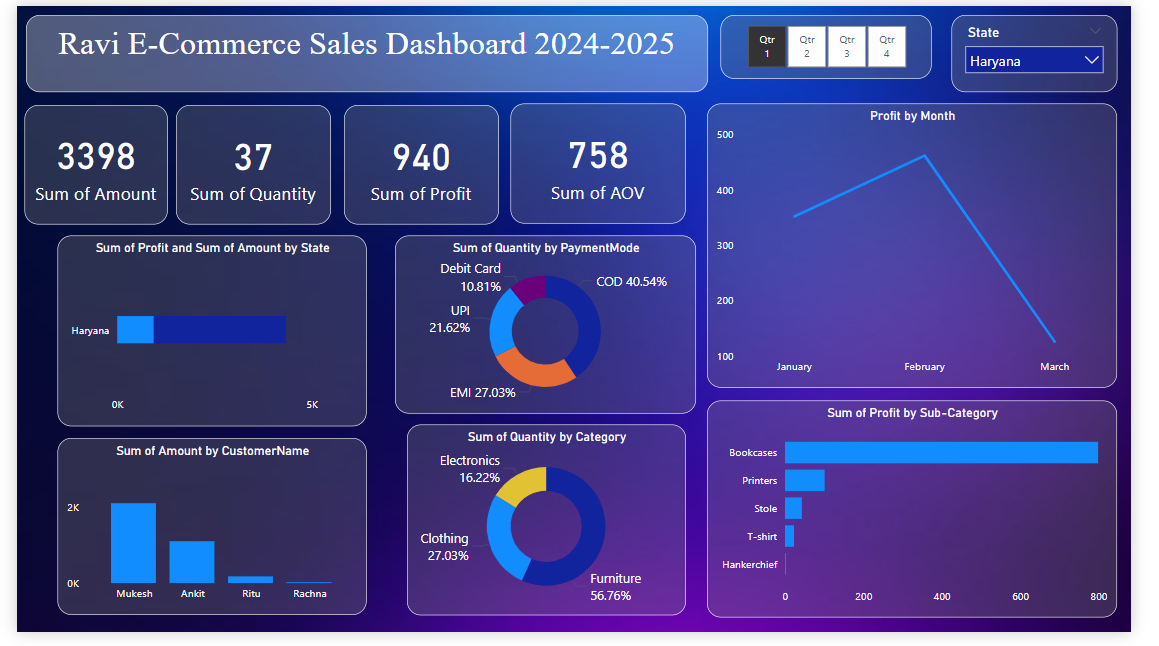

The dashboard page shown, as its layout file describes it:
{"tool":"powerbi","page":{"name":"Page 1","canvas":[1280,720],"ordinal":0},"visuals":[{"type":"textbox","box":[9.5,11.1,784.1,88.9],"z":0},{"type":"lineChart","title":"Profit by Month","fields":{"Category":["Orders.Order Date.Variation.Date Hierarchy.Month"],"Y":["Details.Profit"]},"box":[793.7,112.7,471.4,327],"z":1000},{"type":"barChart","fields":{"Category":["Details.Sub-Category"],"Y":["Details.Profit"]},"box":[793.7,454,471.4,249.2],"z":2000},{"type":"donutChart","fields":{"Category":["Details.Category"],"Y":["Details.Quantity"]},"box":[447.6,481,320.6,219],"z":3000},{"type":"donutChart","fields":{"Category":["Details.PaymentMode","Details.Category"],"Y":["Details.Quantity"]},"box":[434.9,263.5,346,204.8],"z":4000},{"type":"card","fields":{"Values":["Details.Amount"]},"box":[9.3,113,164.8,137],"z":5000},{"type":"card","fields":{"Values":["Details.Quantity"]},"box":[183.3,113,177.8,137],"z":6000},{"type":"card","fields":{"Values":["Details.Profit"]},"box":[375.9,113,177.8,137],"z":7000},{"type":"card","fields":{"Values":["Details.AOV"]},"box":[566.7,112.7,201.6,138.1],"z":8000},{"type":"barChart","fields":{"Category":["Orders.State"],"Y":["Details.Profit","Details.Amount"]},"box":[46,263.5,355.6,219],"z":9000},{"type":"columnChart","fields":{"Category":["Orders.CustomerName"],"Y":["Details.Amount"]},"box":[46,496.8,355.6,203.2],"z":10000},{"type":"slicer","fields":{"Values":["Orders.Order Date.Variation.Date Hierarchy.Quarter"]},"box":[807.9,11.1,242.9,73],"z":11000},{"type":"slicer","fields":{"Values":["Orders.State"]},"box":[1074.6,11.1,190.5,88.9],"z":12000}]}

Visuals, with their boxes in screenshot pixels (x1, y1, x2, y2), scaled from the page's 1280x720 canvas onto the 1159x646 screenshot:
textbox: rect(9, 10, 719, 90)
"Profit by Month" lineChart: rect(719, 101, 1146, 395)
barChart - Details.Sub-Category x Details.Profit: rect(719, 407, 1146, 631)
donutChart - Details.Category x Details.Quantity: rect(405, 432, 696, 628)
donutChart - Details.PaymentMode x Details.Category: rect(394, 236, 707, 420)
card - Details.Amount: rect(8, 101, 158, 224)
card - Details.Quantity: rect(166, 101, 327, 224)
card - Details.Profit: rect(340, 101, 501, 224)
card - Details.AOV: rect(513, 101, 696, 225)
barChart - Orders.State x Details.Profit: rect(42, 236, 364, 433)
columnChart - Orders.CustomerName x Details.Amount: rect(42, 446, 364, 628)
slicer - Orders.Order Date.Variation.Date Hierarchy.Quarter: rect(732, 10, 951, 75)
slicer - Orders.State: rect(973, 10, 1146, 90)
